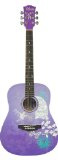guitar: (1, 4, 57, 154)
